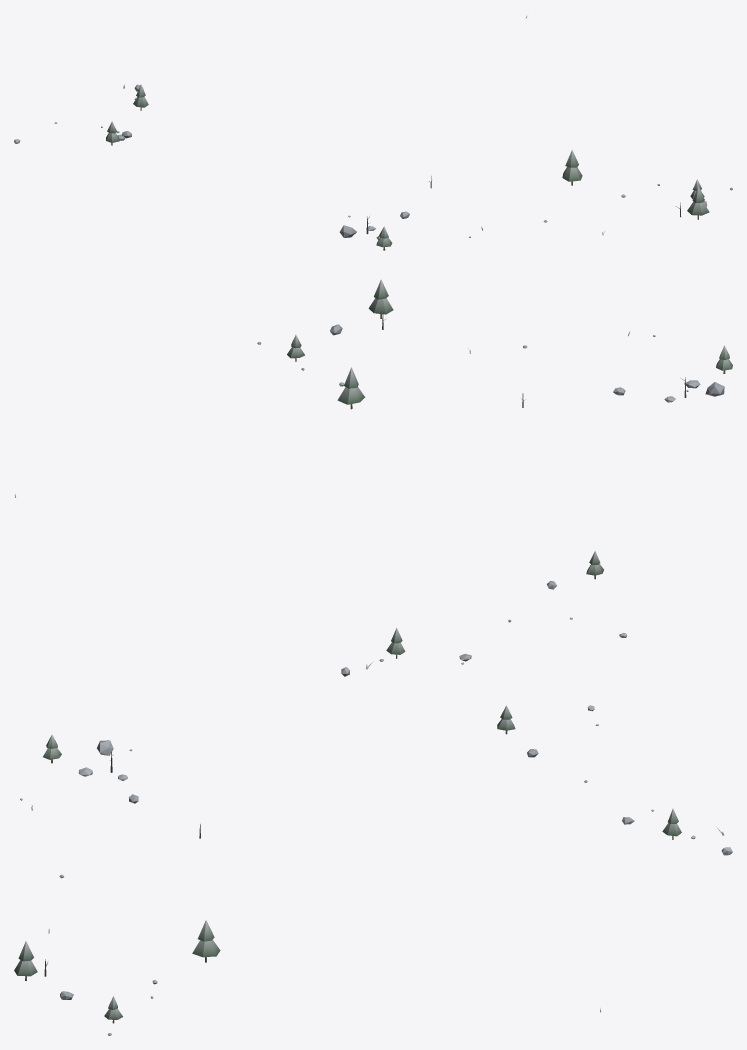
Rendered from frost_land_scatter_c20_11_lod1.glb.
3 renders of one model, top to bottom at view 1: azimuth 30°, elevation 25°; view 2: azimuth 150°, elevation 25°; view 3: azimuth 270°, elevation 25°, orthographic. The views are drawn at different scales.
Parts seen in each view (by area): view 1: frost_land_scatter_c20_11_lod1; view 2: frost_land_scatter_c20_11_lod1; view 3: frost_land_scatter_c20_11_lod1.
Part boxes in pixels (x1,y1,x2,y2): frost_land_scatter_c20_11_lod1: [14, 16, 732, 250]; frost_land_scatter_c20_11_lod1: [14, 279, 732, 676]; frost_land_scatter_c20_11_lod1: [14, 705, 732, 1035].
Bounding box in the file's own units: 214 × 33.75 × 216.
